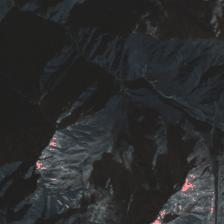landslides: (115, 79, 131, 98)
